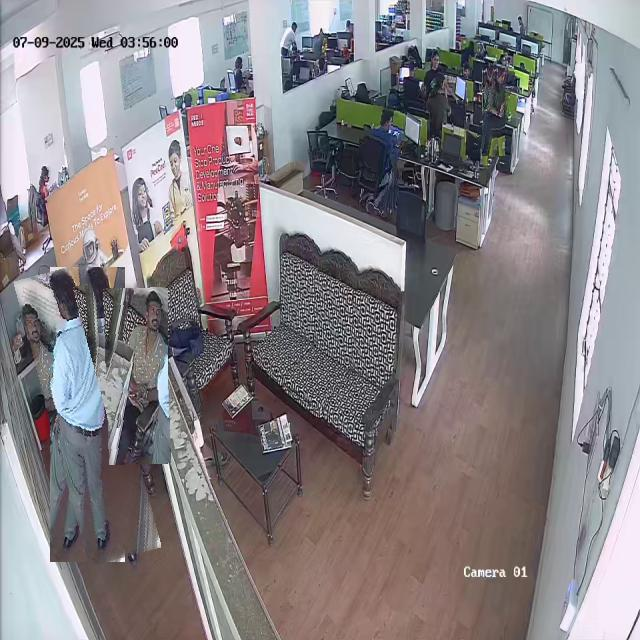person: (32, 265, 143, 564), (104, 288, 170, 464), (353, 106, 402, 216), (477, 68, 510, 156), (425, 71, 451, 140), (34, 165, 58, 204)
